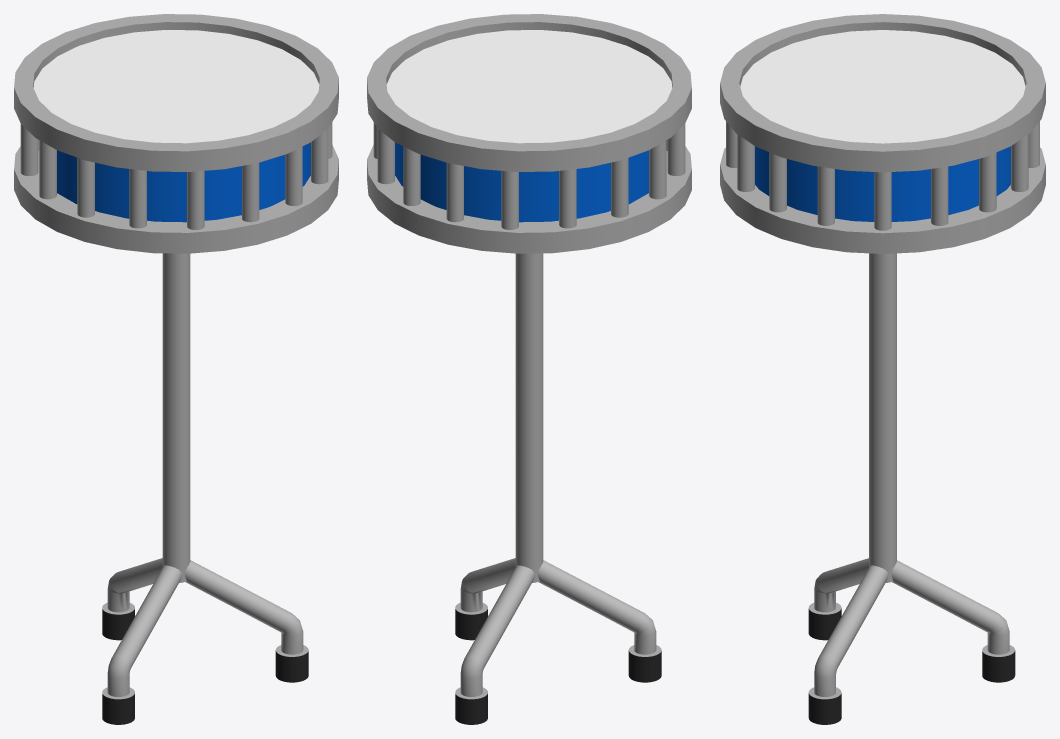
File: Tom2.fbx
The picture shows the model from 3 angles, left to right: view 1: azimuth 30°, elevation 25°; view 2: azimuth 150°, elevation 25°; view 3: azimuth 270°, elevation 25°; orthographic projection.
Visible parts, largest first — view 1: Tom2; view 2: Tom2; view 3: Tom2.
Part boxes in pixels (x1,y1,x2,y2): Tom2: (14,14,338,724); Tom2: (367,14,691,724); Tom2: (720,14,1045,724).
Bounding box in the file's own units: 121 × 243 × 121.
